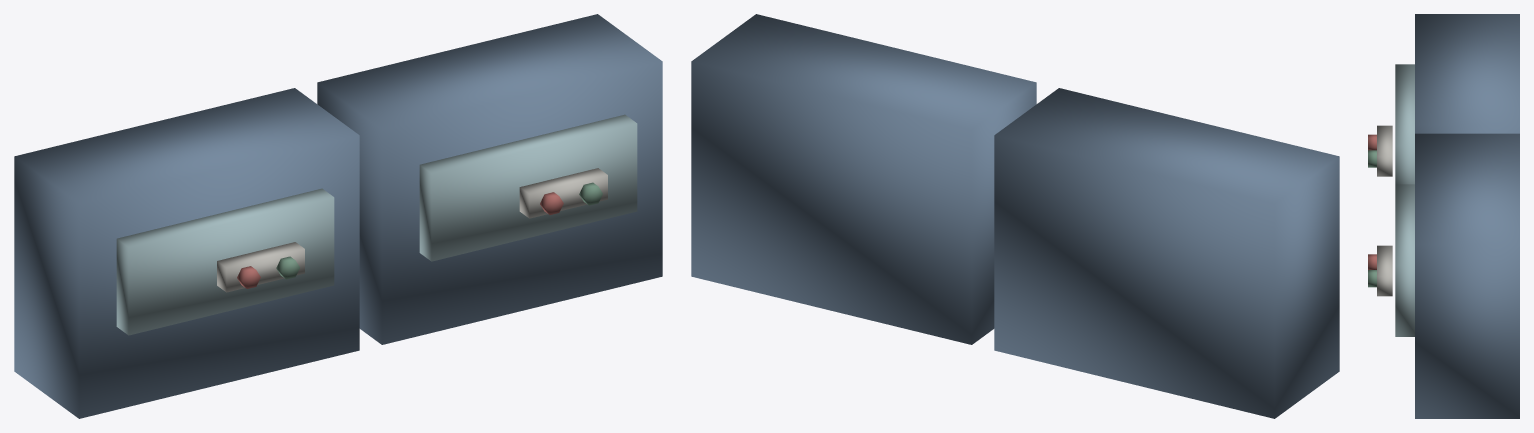
File: price_checker__cluster.glb
3 views of the same model, side by side, from view 1: azimuth 30°, elevation 25°; view 2: azimuth 150°, elevation 25°; view 3: azimuth 270°, elevation 25° (orthographic). The views are drawn at different scales.
Parts seen in each view (by area): view 1: world; view 2: world; view 3: world.
Boxes of the visible parts, x1,y1,x2,y2 form: world: (14, 14, 662, 418); world: (691, 14, 1339, 418); world: (1368, 14, 1519, 418).
Size of the model in its own units: 0.624 by 0.22 by 0.1735.
